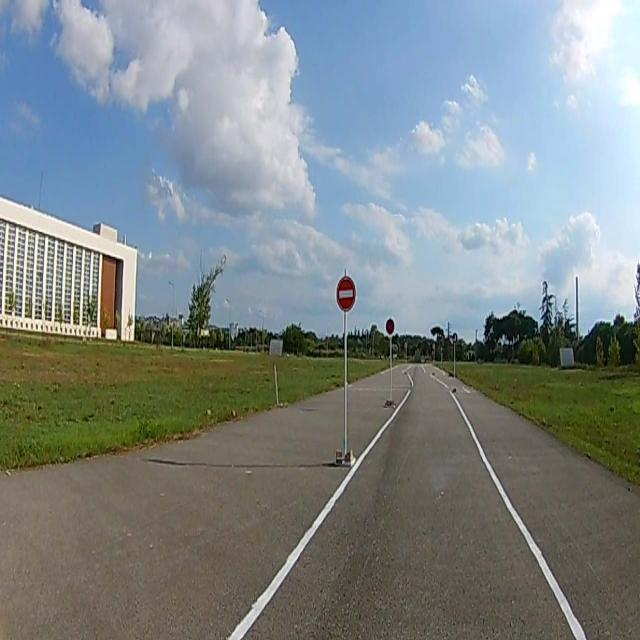girisyok: (336, 277, 356, 311)
